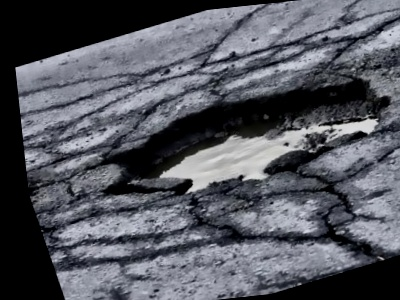pothole: (75, 47, 400, 232)
